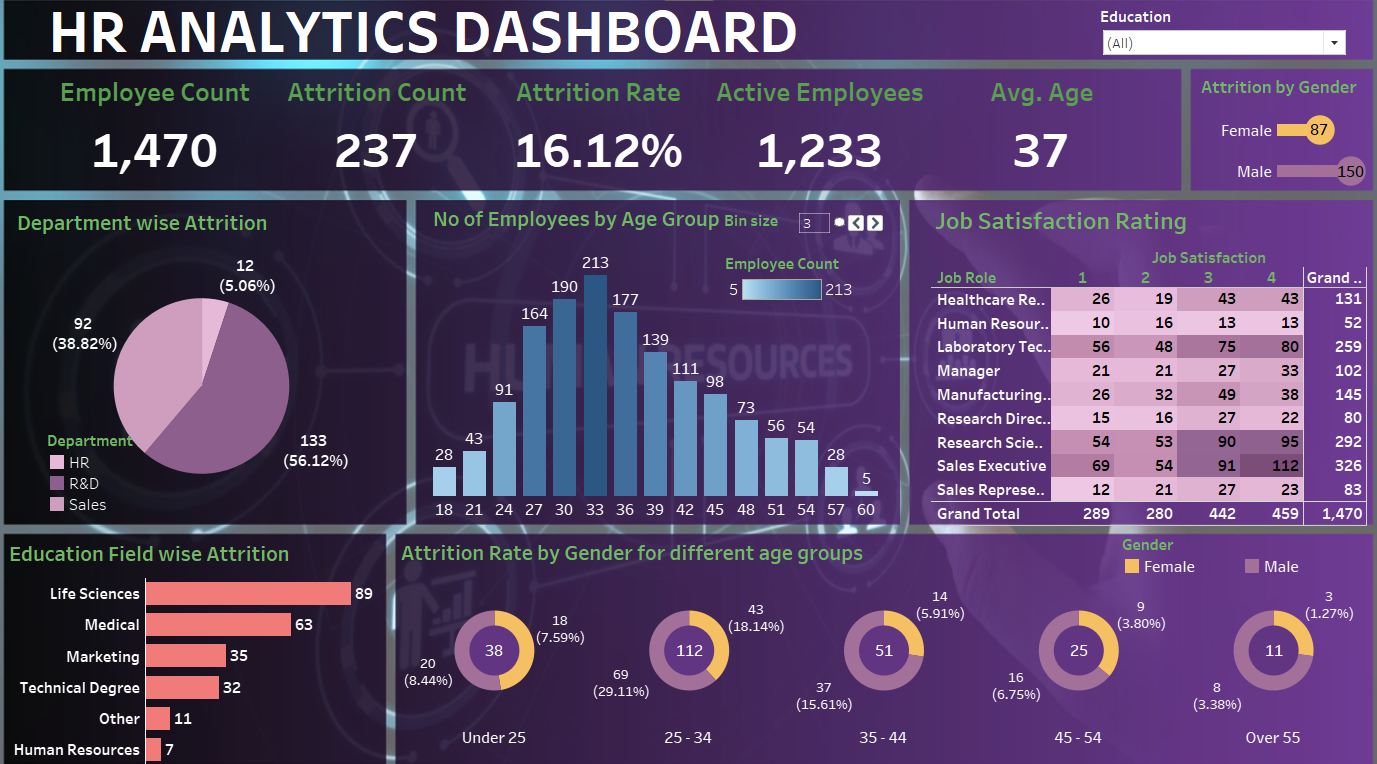

This screenshot's page, from the dashboard's own definition file:
{"tool":"tableau","page":{"name":"HR ANALYTICS DASHBOARD","canvas":[1000,1000],"units":"permille","ordinal":0},"visuals":[{"type":"image","param":"Image/HR background.pptx.png","box":[5,10,990,980]},{"type":"text","box":[99,25,564.1,66.2]},{"type":"filter","title":"Department wise Attrition","param":"[federated.1oaj5671v956f3155hcyd15qco28].[none:Education:nk]","box":[755.9,30,155,64.9]},{"type":"worksheet","title":"KPI","mark":"Automatic","box":[98.4,107.4,690.7,151.1]},{"type":"worksheet","title":"Attrition by Gender","mark":"Automatic","rows":["Gender"],"cols":["Calculation_175640390233927680","Calculation_175640390233927680"],"box":[816.3,109.9,107.7,152.3]},{"type":"worksheet","title":"No of Employees by Age Group","mark":"Automatic","rows":["Employee Count"],"cols":["Age (bin)"],"box":[338.1,272.2,282.1,400.8]},{"type":"worksheet","title":"Job Satisfaction Rating","mark":"Square","rows":["Job Role"],"cols":["Job Satisfaction"],"box":[650.7,272.2,271.5,407]},{"type":"worksheet","title":"Department wise Attrition","mark":"Pie","box":[79.1,277.2,234.7,400.8]},{"type":"parameter","param":"[Parameters].[Parameter 1]","box":[522,284.6,100.8,48.7]},{"type":"legend","title":"No of Employees by Age Group","param":"[federated.1oaj5671v956f3155hcyd15qco28].[sum:Employee Count:qk]","box":[522.5,338.3,82,58.7]},{"type":"legend","title":"Department wise Attrition","param":"[federated.1oaj5671v956f3155hcyd15qco28].[none:Department:nk]","box":[100.2,559.3,63.3,112.4]},{"type":"worksheet","title":"Attrition Rate by Gender for different age groups","mark":"Pie","rows":["Calculation_1651132219504205825","Calculation_1651132219504205825"],"cols":["CF_age band"],"box":[318.2,689.1,606.5,294.6]},{"type":"legend","title":"Attrition Rate by Gender for different age groups","param":"[federated.1oaj5671v956f3155hcyd15qco28].[none:Gender:nk]","box":[769.6,689.1,153.2,61.2]},{"type":"worksheet","title":"Education Field wise Attrition","mark":"Automatic","rows":["Education Field"],"cols":["Calculation_175640390233927680"],"box":[74.1,690.4,238.5,287.1]}]}

Visuals, with their boxes on the dashboard's canvas, which has no fixed pixel size, in thousandths of its width and height (x1, y1, x2, y2). These are canvas units, not pixel positions in the 1377x764 screenshot, which may show the page scaled, cropped or inside an application window:
image: <bbox>5, 10, 995, 990</bbox>
text: <bbox>99, 25, 663, 91</bbox>
"Department wise Attrition" filter: <bbox>756, 30, 911, 95</bbox>
"KPI" worksheet: <bbox>98, 107, 789, 258</bbox>
"Attrition by Gender" worksheet: <bbox>816, 110, 924, 262</bbox>
"No of Employees by Age Group" worksheet: <bbox>338, 272, 620, 673</bbox>
"Job Satisfaction Rating" worksheet (Square marks): <bbox>651, 272, 922, 679</bbox>
"Department wise Attrition" worksheet (Pie marks): <bbox>79, 277, 314, 678</bbox>
parameter: <bbox>522, 285, 623, 333</bbox>
"No of Employees by Age Group" legend: <bbox>522, 338, 604, 397</bbox>
"Department wise Attrition" legend: <bbox>100, 559, 164, 672</bbox>
"Attrition Rate by Gender for different age groups" worksheet (Pie marks): <bbox>318, 689, 925, 984</bbox>
"Attrition Rate by Gender for different age groups" legend: <bbox>770, 689, 923, 750</bbox>
"Education Field wise Attrition" worksheet: <bbox>74, 690, 313, 978</bbox>
